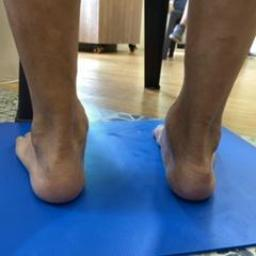Back View -Both Feet-: (4, 72, 246, 218)
